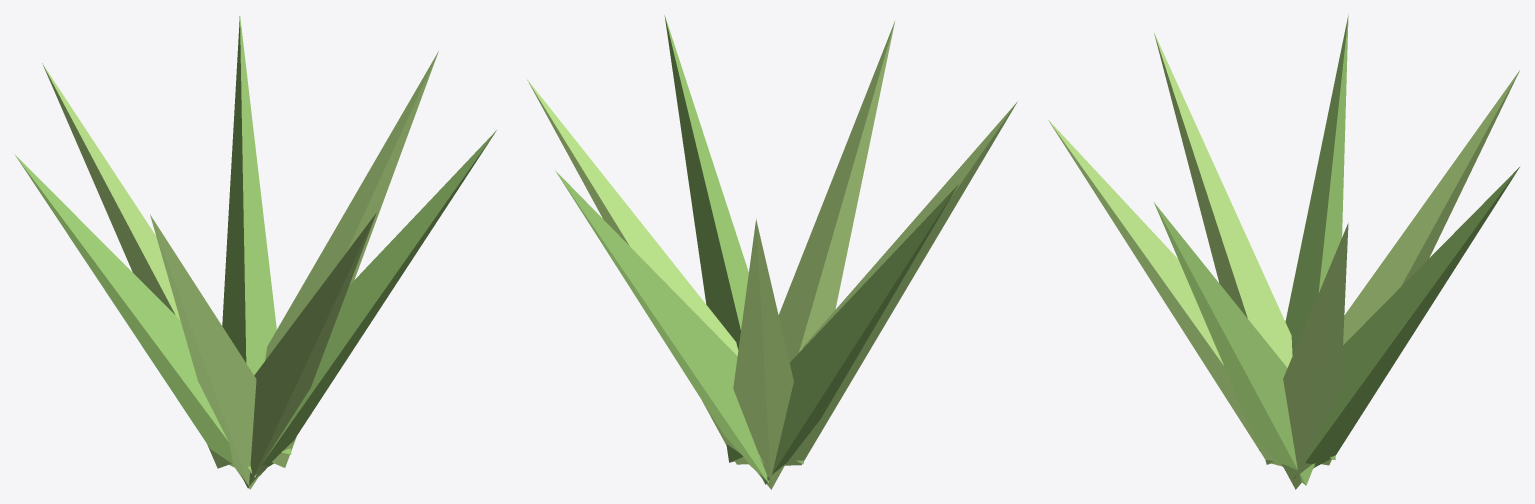
The model's file is fern.glb.
3 views of the same model, side by side, from view 1: azimuth 30°, elevation 25°; view 2: azimuth 150°, elevation 25°; view 3: azimuth 270°, elevation 25° (orthographic).
Visible parts, largest first — view 1: fern-leaf4, fern-leaf2; view 2: fern-leaf4, fern-leaf2; view 3: fern-leaf4, fern-leaf2.
Part boxes in pixels (box(x1,y1,x2,y2)): fern-leaf4: box(42, 51, 438, 489); fern-leaf2: box(14, 16, 496, 477); fern-leaf4: box(527, 20, 1017, 489); fern-leaf2: box(555, 15, 958, 484); fern-leaf4: box(1048, 32, 1519, 489); fern-leaf2: box(1154, 14, 1520, 485).
Bounding box in the file's own units: 0.6626 × 0.5315 × 0.6372.
